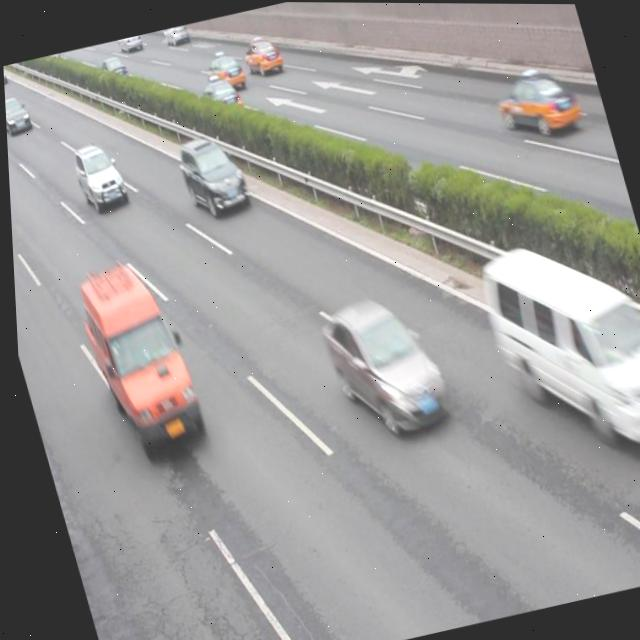car: (313, 288, 451, 442), (488, 58, 583, 139), (171, 130, 252, 219), (67, 139, 129, 213), (200, 46, 246, 95), (194, 74, 244, 118), (239, 34, 284, 76), (4, 94, 32, 137), (96, 54, 131, 88), (162, 24, 189, 44), (117, 34, 144, 53)
truck: (469, 218, 640, 473), (68, 256, 204, 454)
